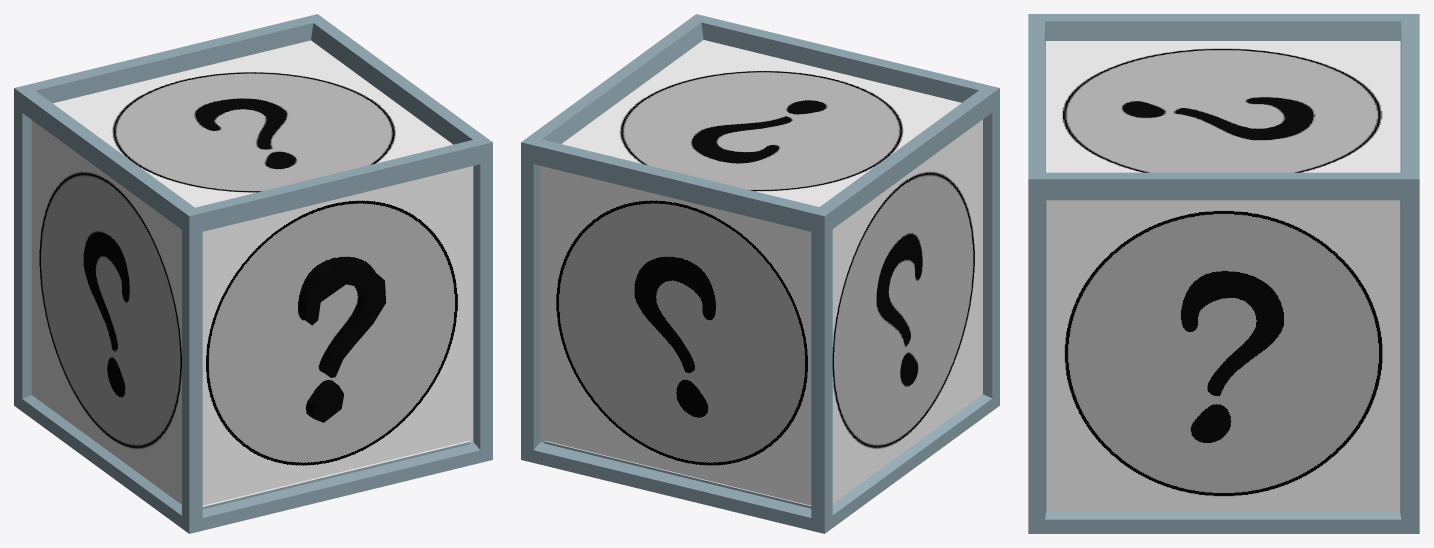
File: unknown.glb
The picture shows the model from 3 angles, left to right: view 1: azimuth 30°, elevation 25°; view 2: azimuth 150°, elevation 25°; view 3: azimuth 270°, elevation 25°; orthographic projection. The views are drawn at different scales.
Visible parts, largest first — view 1: Cube; view 2: Cube; view 3: Cube.
Boxes of the visible parts, <box> form: Cube: <box>14,14,492,533</box>; Cube: <box>521,14,999,533</box>; Cube: <box>1028,14,1419,533</box>.
Bounding box in the file's own units: 2 × 2 × 2.
Materials: 3 (1 with a texture image).
